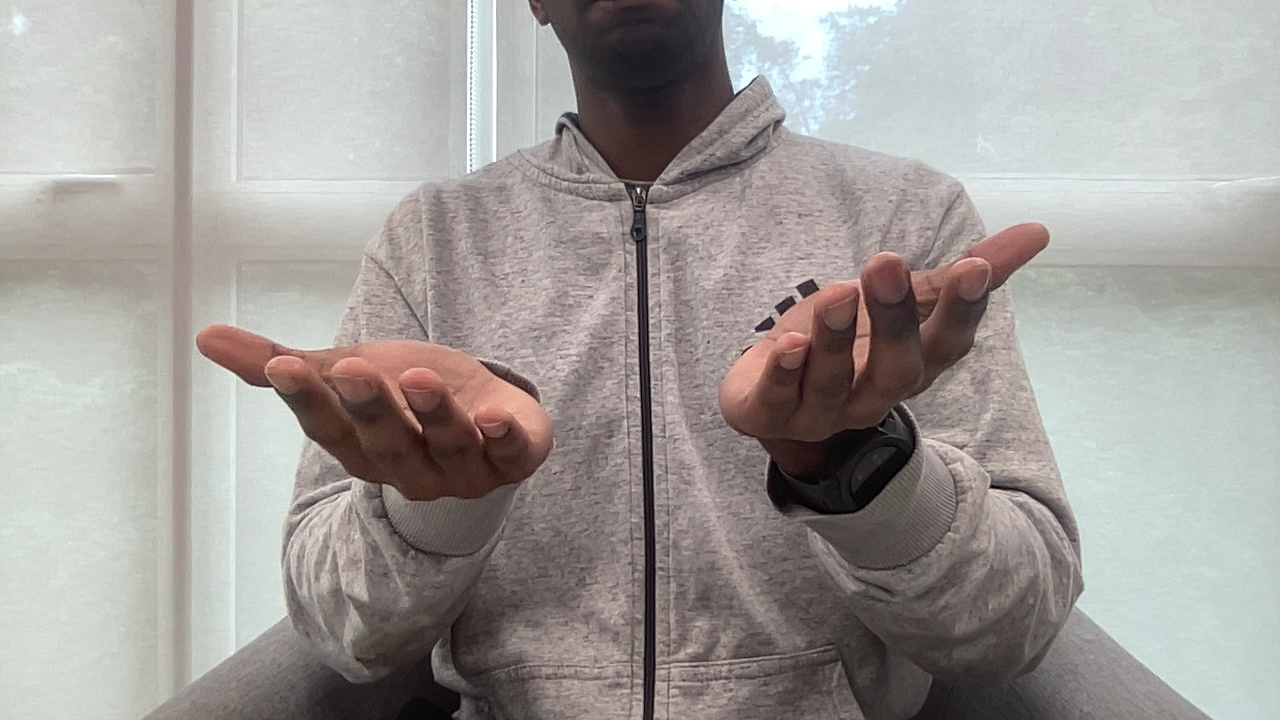give: (190, 214, 1068, 518)
